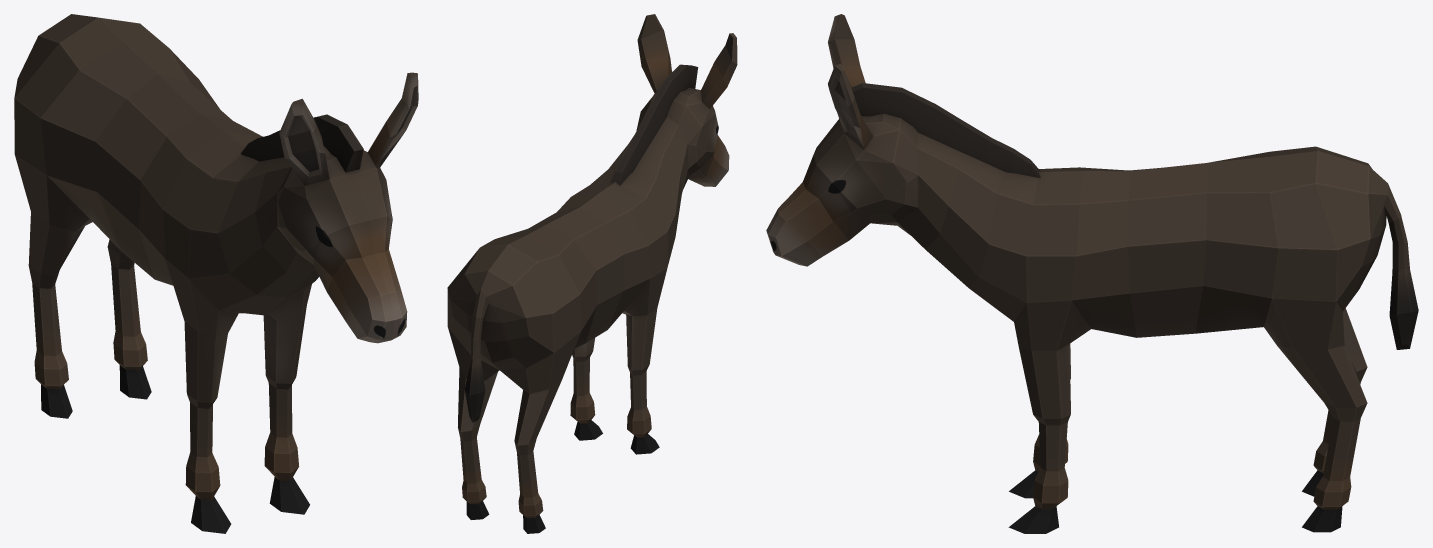
Rendered from Donkey.gltf.
3 views of the same model, side by side, from view 1: azimuth 30°, elevation 25°; view 2: azimuth 150°, elevation 25°; view 3: azimuth 270°, elevation 25° (orthographic). The views are drawn at different scales.
Visible parts, largest first — view 1: node-0; view 2: node-0; view 3: node-0.
Part boxes in pixels (<box>): node-0: <box>14,14,418,533</box>; node-0: <box>447,14,737,533</box>; node-0: <box>766,14,1418,533</box>.
Size of the model in its own units: 3.58 by 10.87 by 13.69.
1 material, 1 textured.
